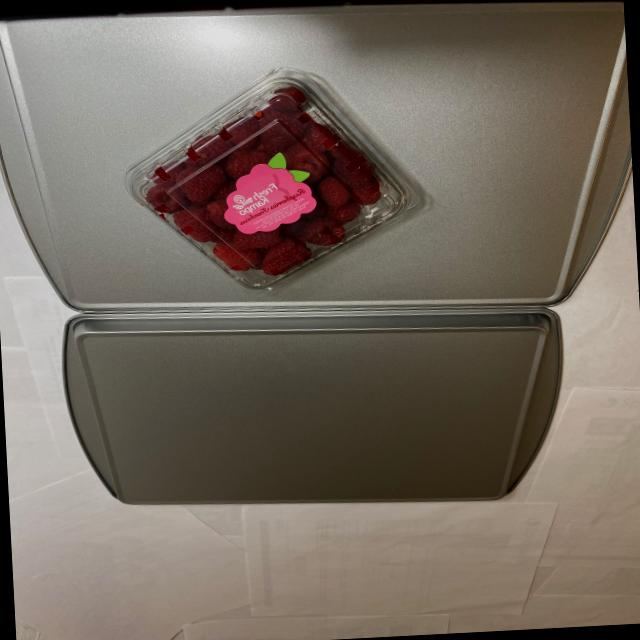raspberries: (138, 84, 386, 280)
